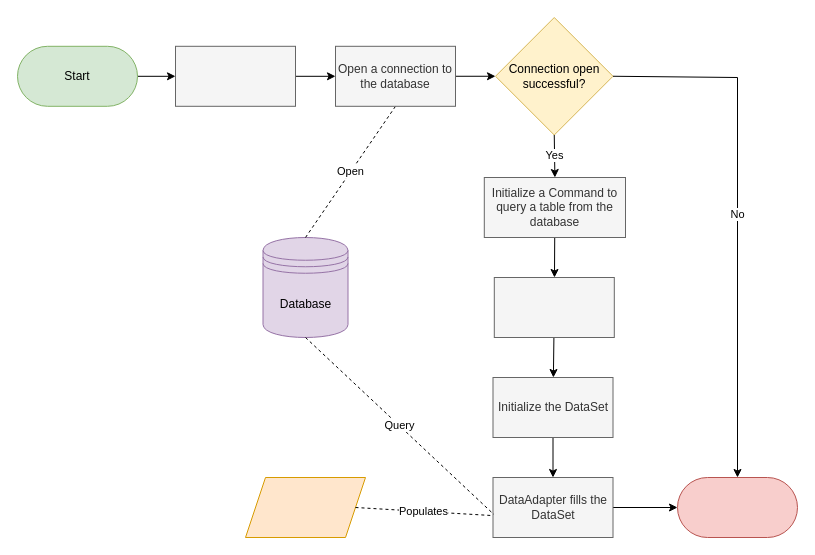
This 815x555 diagram has some shape labels left out. The shapes that lost their labels are listed below. From the top down, each one's centre as x and y in pixels, then its label:
At [235,75]: "Initialize the Connection".
At [553,307]: "Initialize the DataAdapter".
At [305,507]: "DataSet".
At [737,507]: "End".
